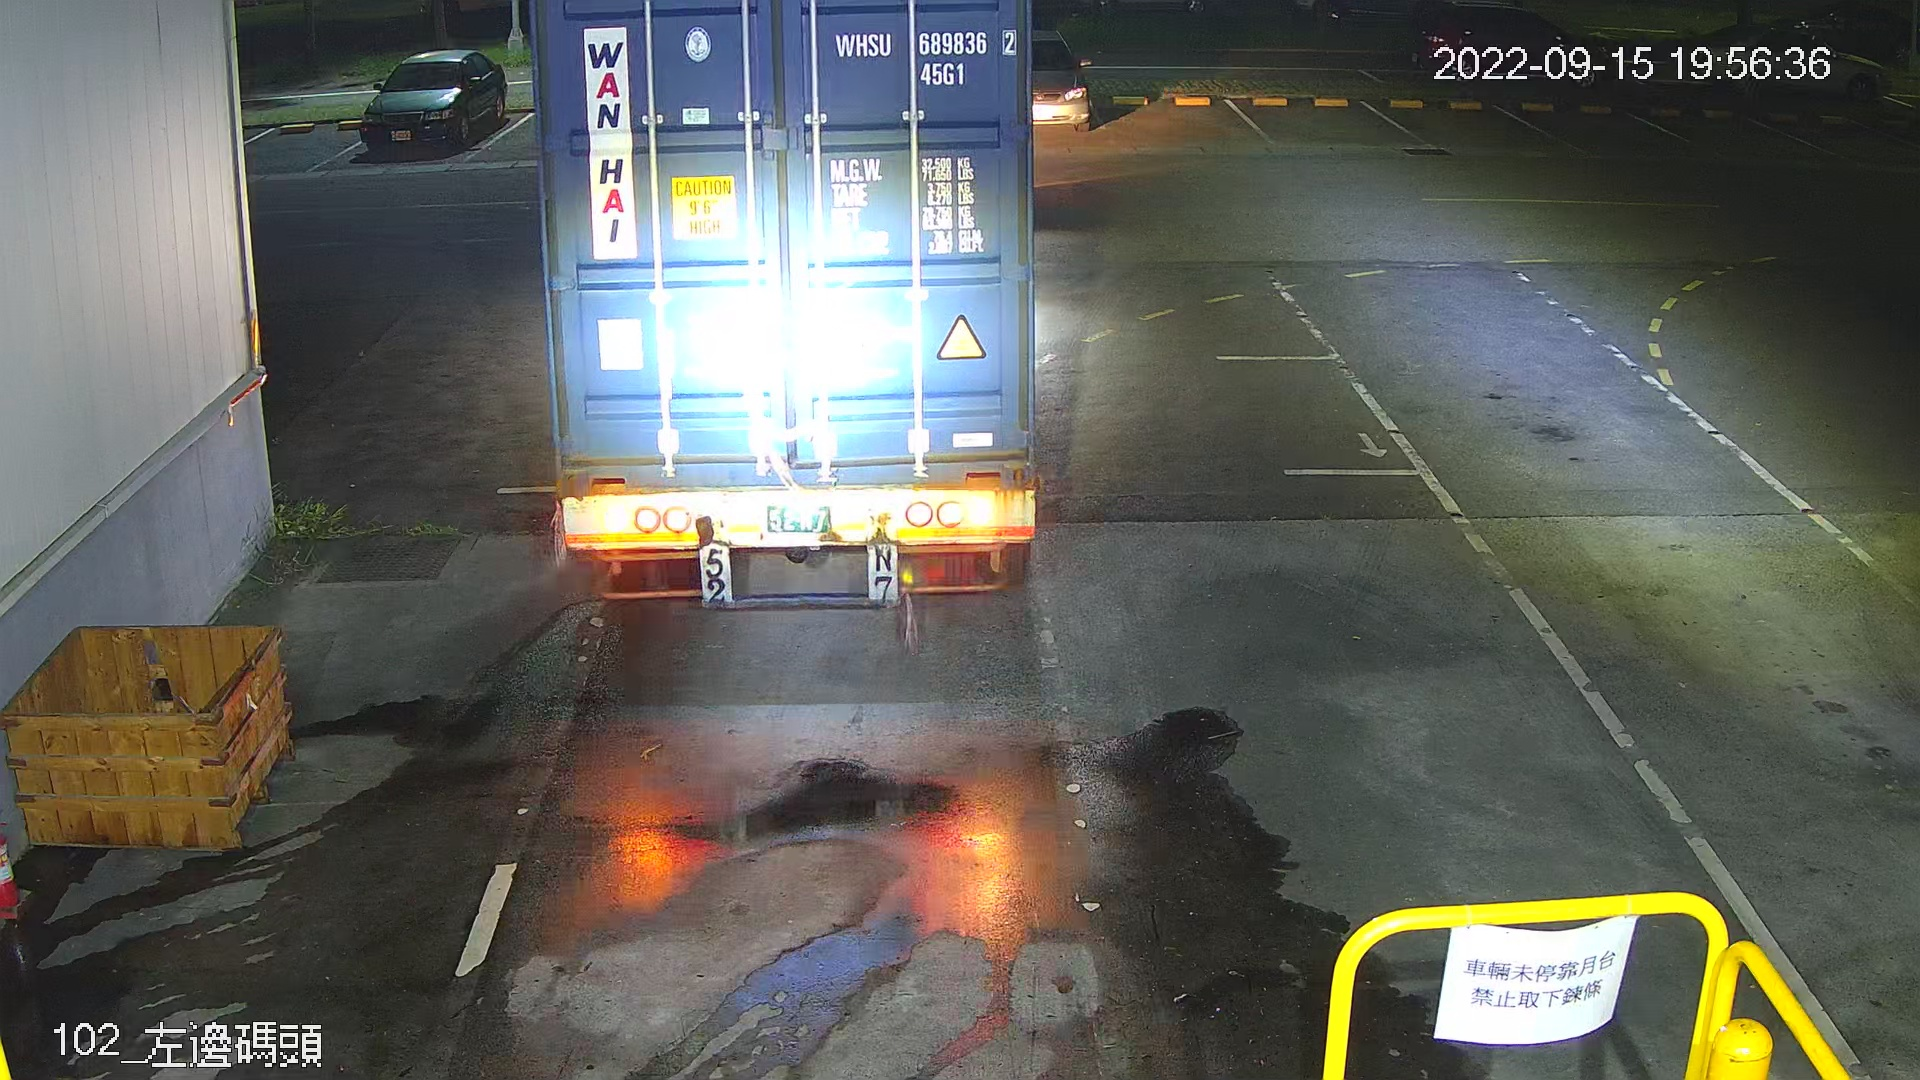container: (822, 18, 1025, 98)
